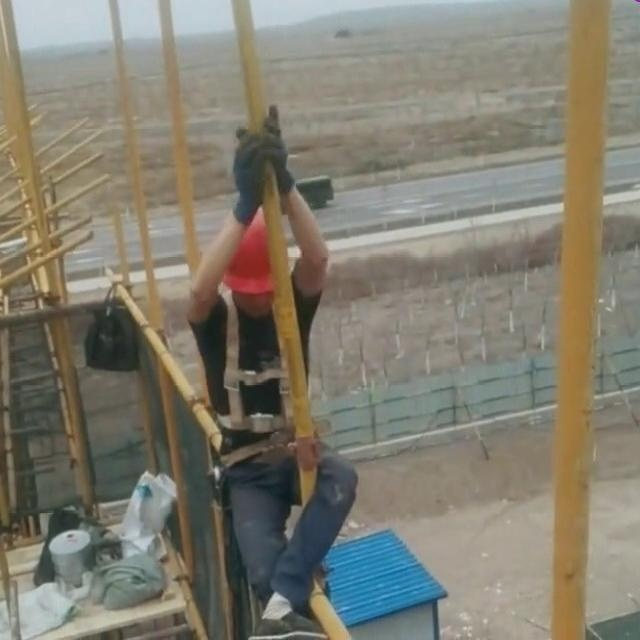Arnes_seguridad: (207, 278, 304, 434)
